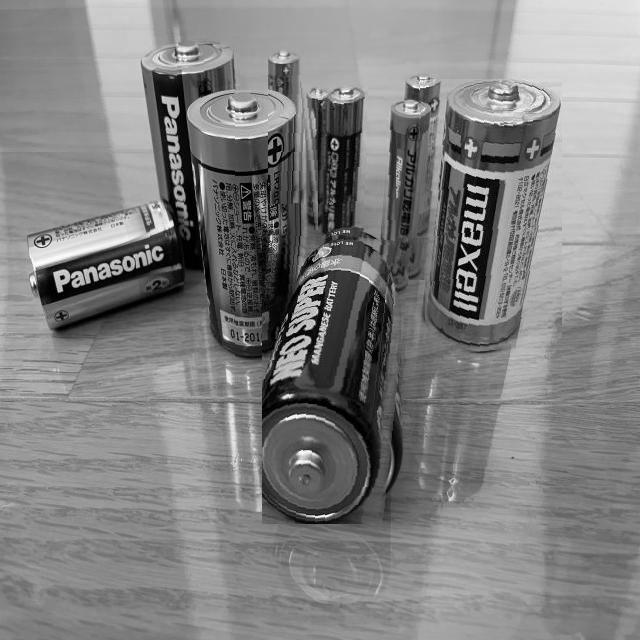battery: (262, 227, 412, 524), (420, 80, 562, 358), (184, 83, 304, 364), (136, 36, 240, 278), (21, 190, 190, 334), (376, 95, 432, 280), (396, 70, 446, 238), (318, 86, 368, 251), (268, 46, 308, 205), (300, 82, 332, 230)
